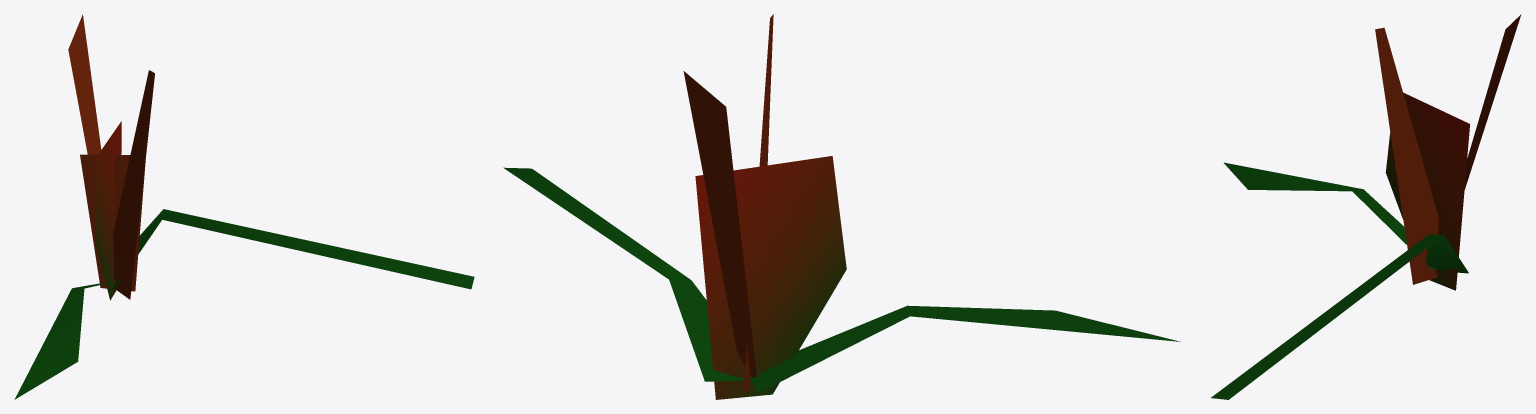
File: Desert Grass_LOD1_Var5_scpho.fbx
3 views of the same model, side by side, from view 1: azimuth 30°, elevation 25°; view 2: azimuth 150°, elevation 25°; view 3: azimuth 270°, elevation 25° (orthographic). The views are drawn at different scales.
Visible parts, largest first — view 1: _b657_Var5_LOD1; view 2: _b657_Var5_LOD1; view 3: _b657_Var5_LOD1.
Boxes of the visible parts, left/top/right/bottom form: _b657_Var5_LOD1: left=14, top=14, right=474, bottom=399; _b657_Var5_LOD1: left=503, top=14, right=1180, bottom=399; _b657_Var5_LOD1: left=1211, top=14, right=1521, bottom=399.
Bounding box in the file's own units: 13.77 × 7.12 × 7.33.
